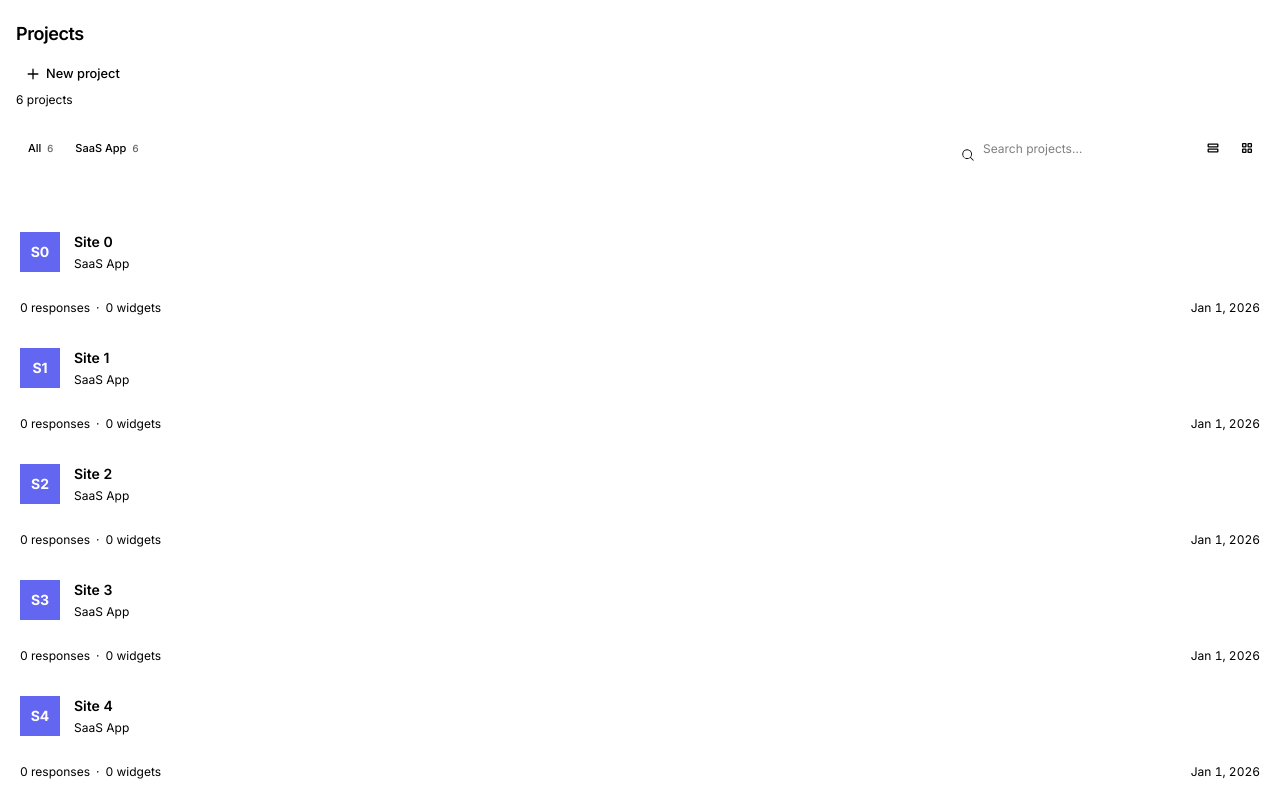
Scenario: ProjectsClient workspace home › shows the filtered-empty surface instead of a blank canvas
Expected: the text "Site 0" is shown, [74,233,113,250]
Type "zzz-no-such-project" into the search field labelled "Search projects". click: (1068, 148)
box: [951,134,1184,162]
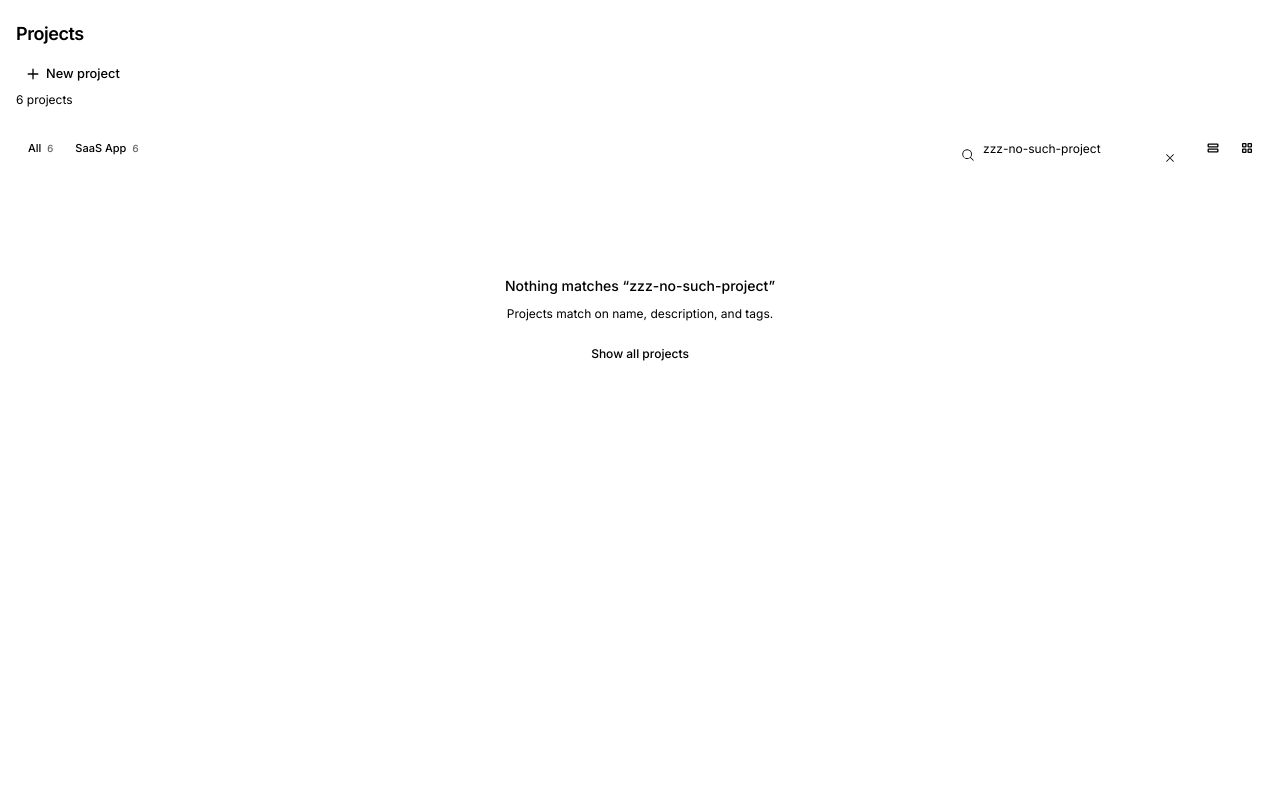
Now the text "Nothing matches “zzz-no-such-project”" is shown, box [505,276,775,296]
Click the button "Show all projects". click: (640, 354)
box: [581,340,699,368]
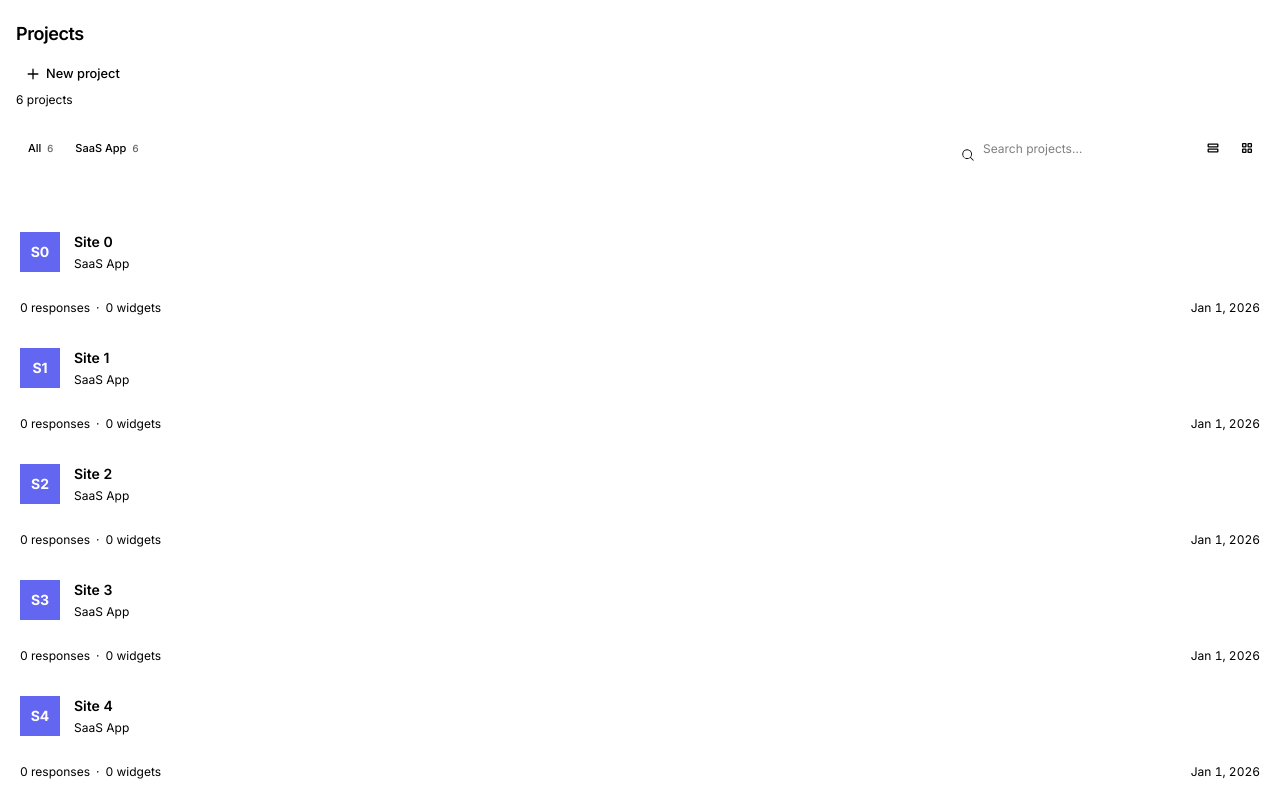
Now the text "Site 0" is shown, box [74,233,113,250]
